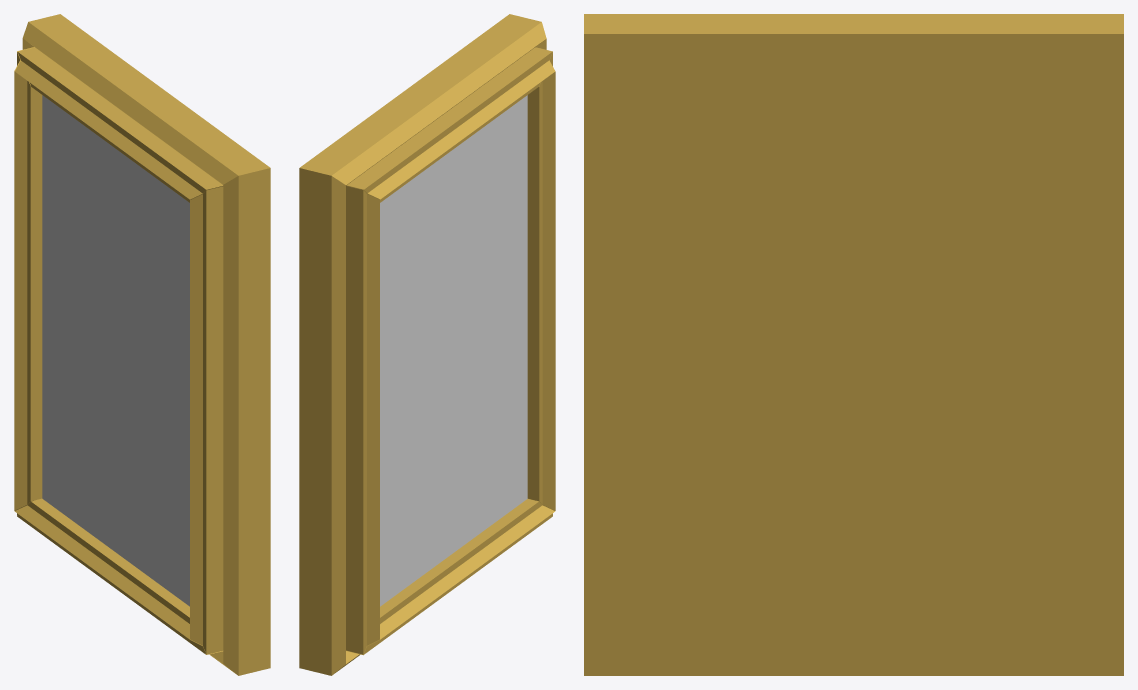
Rendered from Painting.fbx.
The picture shows the model from 3 angles, left to right: view 1: azimuth 30°, elevation 25°; view 2: azimuth 150°, elevation 25°; view 3: azimuth 270°, elevation 25°; orthographic projection. The views are drawn at different scales.
Parts seen in each view (by area): view 1: Cube, Cube.002, Cube.001; view 2: Cube, Cube.002, Cube.001; view 3: Cube.001.
Boxes of the visible parts, bbox=[...] form: Cube: bbox=[42, 95, 189, 606]; Cube.002: bbox=[14, 47, 223, 654]; Cube.001: bbox=[22, 14, 270, 675]; Cube: bbox=[380, 95, 527, 606]; Cube.002: bbox=[346, 47, 555, 655]; Cube.001: bbox=[299, 14, 546, 675]; Cube.001: bbox=[584, 14, 1123, 675].
Size of the model in its own units: 62.64 by 473 by 360.
